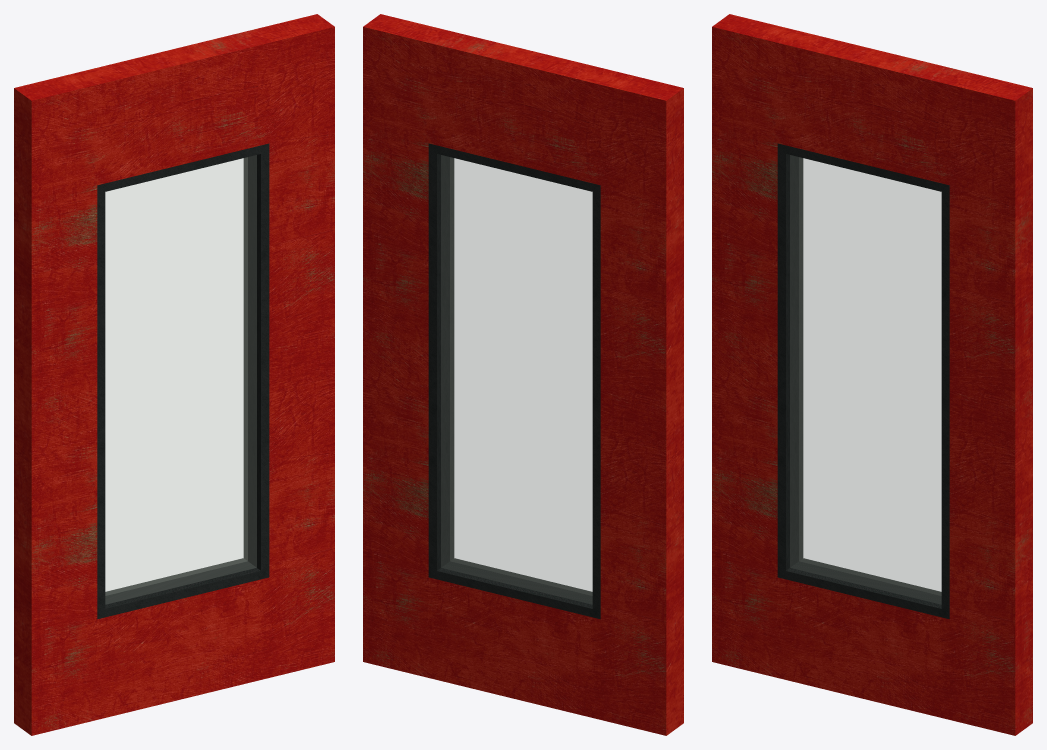
Rendered from ParedPintRojaVentana2.fbx.
3 views of the same model, side by side, from view 1: azimuth 30°, elevation 25°; view 2: azimuth 150°, elevation 25°; view 3: azimuth 330°, elevation 25° (orthographic).
Parts seen in each view (by area): view 1: ParedPintRojaVentanaGrande; view 2: ParedPintRojaVentanaGrande; view 3: ParedPintRojaVentanaGrande.
Part boxes in pixels (<box>): ParedPintRojaVentanaGrande: <box>14,14,334,735</box>; ParedPintRojaVentanaGrande: <box>363,14,683,735</box>; ParedPintRojaVentanaGrande: <box>712,14,1032,735</box>.
Bounding box in the file's own units: 200 × 400 × 20.
